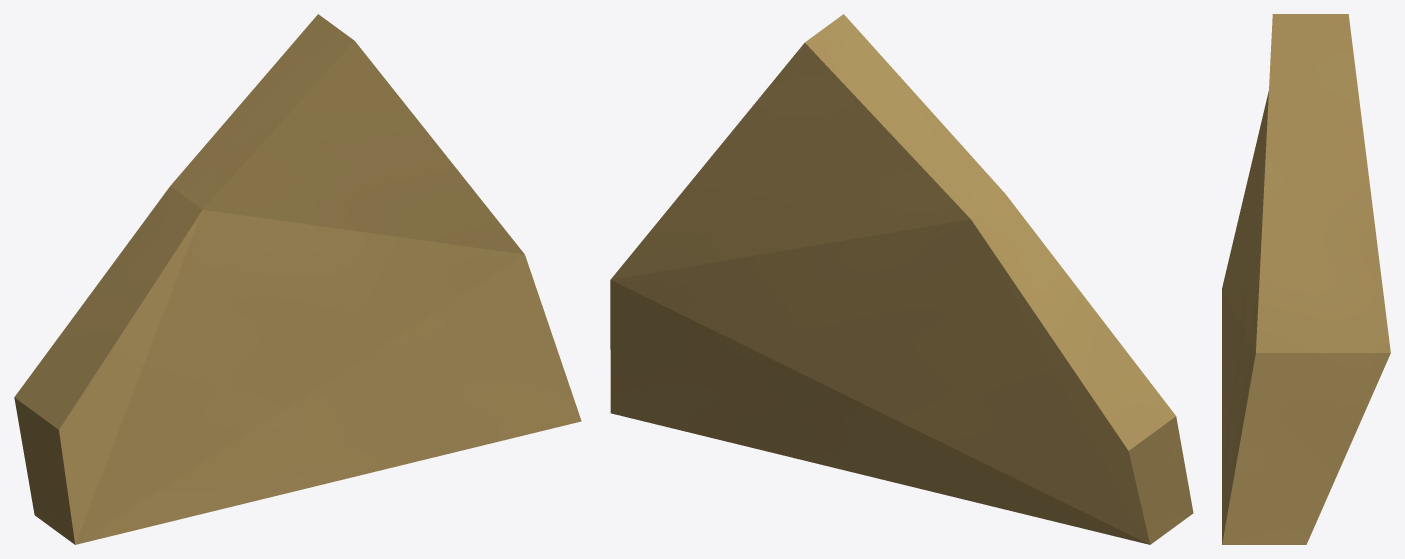
File: WarrensC_WVC076_BellLipDamageInsert_Mars_SM.fbx
The picture shows the model from 3 angles, left to right: view 1: azimuth 30°, elevation 25°; view 2: azimuth 150°, elevation 25°; view 3: azimuth 270°, elevation 25°; orthographic projection. The views are drawn at different scales.
Visible parts, largest first — view 1: WarrensC_WVC076_BellLipDamageInsert_Mars_SM.001; view 2: WarrensC_WVC076_BellLipDamageInsert_Mars_SM.001; view 3: WarrensC_WVC076_BellLipDamageInsert_Mars_SM.001.
Part boxes in pixels (x1,y1,x2,y2): WarrensC_WVC076_BellLipDamageInsert_Mars_SM.001: (14, 14, 581, 544); WarrensC_WVC076_BellLipDamageInsert_Mars_SM.001: (610, 14, 1193, 544); WarrensC_WVC076_BellLipDamageInsert_Mars_SM.001: (1222, 14, 1390, 544).
Bounding box in the file's own units: 90 × 25 × 70.
